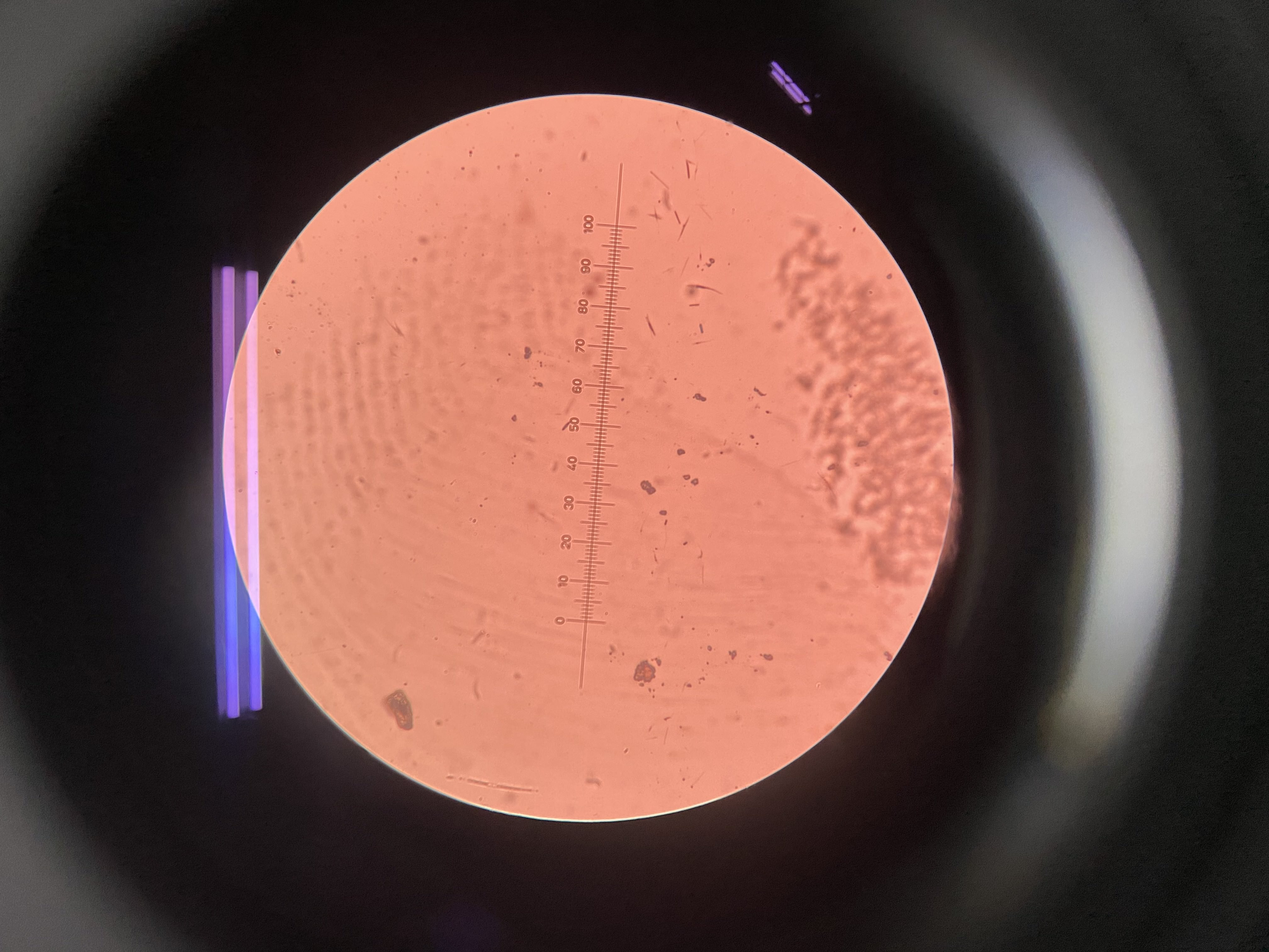not_microplastic: (783, 215, 975, 583), (382, 688, 423, 738), (651, 171, 678, 211), (633, 658, 660, 687), (672, 209, 696, 240), (684, 280, 721, 300), (689, 324, 716, 346), (694, 198, 716, 223), (683, 158, 704, 181), (647, 311, 659, 336), (646, 207, 666, 220), (728, 646, 742, 663), (640, 480, 658, 493), (763, 652, 778, 663), (691, 393, 708, 402), (676, 450, 690, 459)
